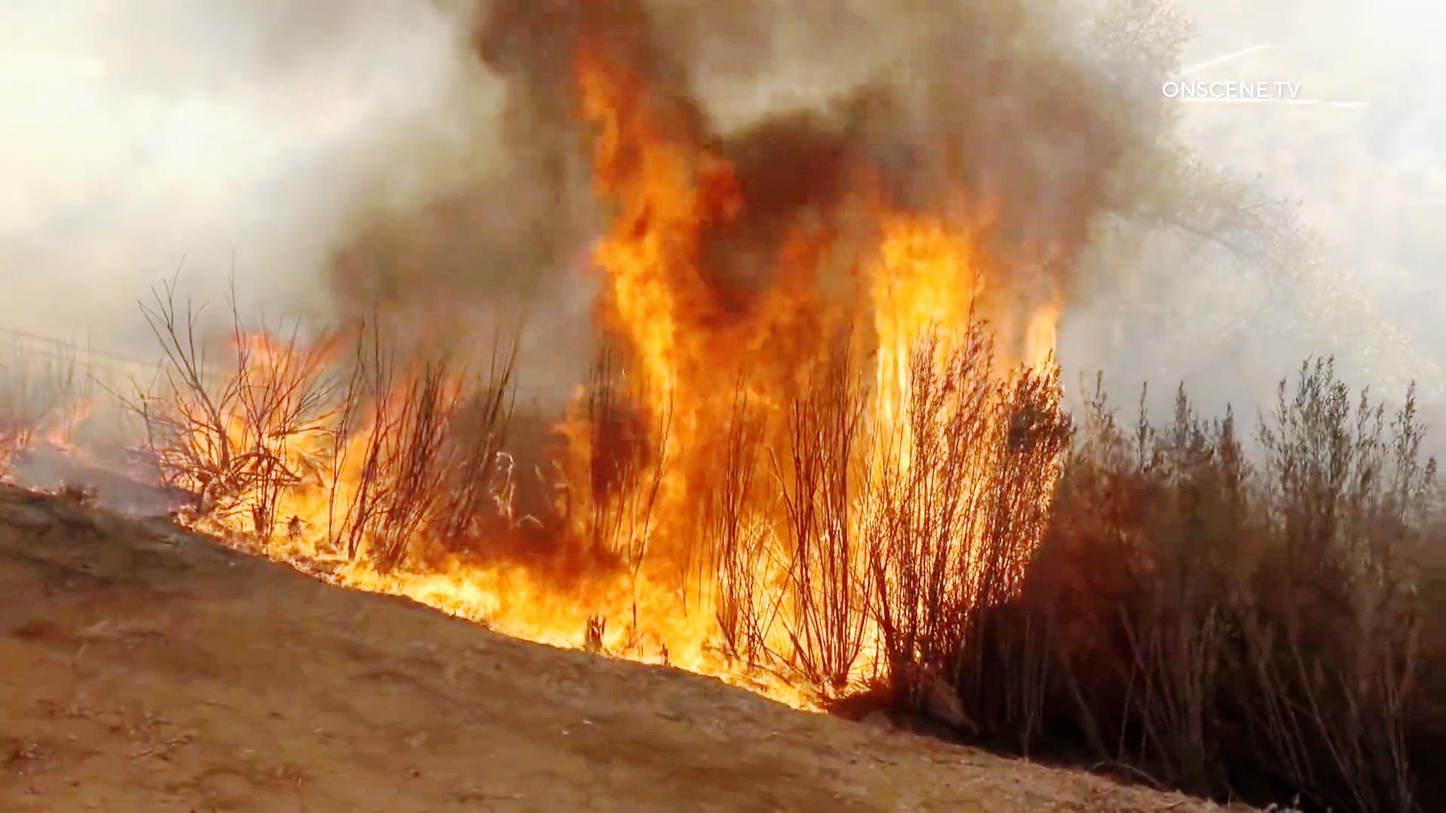fire: (584, 46, 740, 666), (159, 350, 368, 590), (364, 546, 572, 655), (866, 222, 984, 341)
smoke: (315, 15, 558, 314), (772, 25, 1133, 198)
